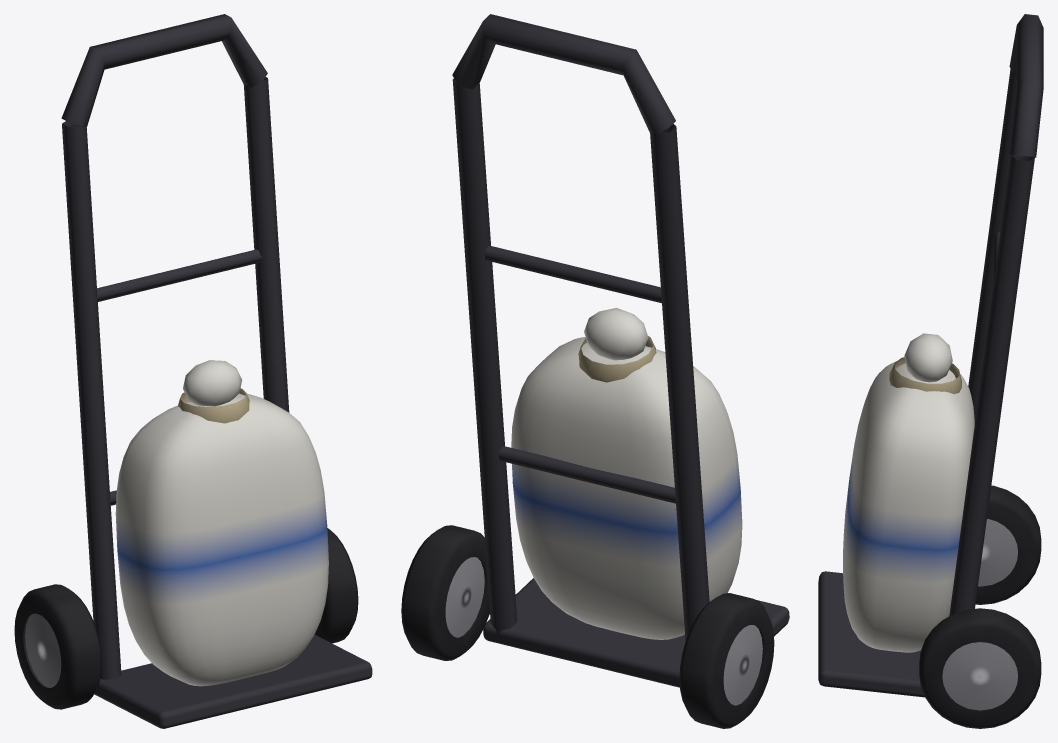
The model's file is furn_sack_cart.glb.
The picture shows the model from 3 angles, left to right: view 1: azimuth 30°, elevation 25°; view 2: azimuth 150°, elevation 25°; view 3: azimuth 270°, elevation 25°; orthographic projection. The views are drawn at different scales.
Visible parts, largest first — view 1: furn_sack_cart_main; view 2: furn_sack_cart_main; view 3: furn_sack_cart_main.
Boxes of the visible parts, x1,y1,x2,y2 form: furn_sack_cart_main: (14, 14, 372, 728); furn_sack_cart_main: (401, 14, 789, 728); furn_sack_cart_main: (818, 14, 1043, 728).
Bounding box in the file's own units: 0.5424 × 1.11 × 0.3684.
